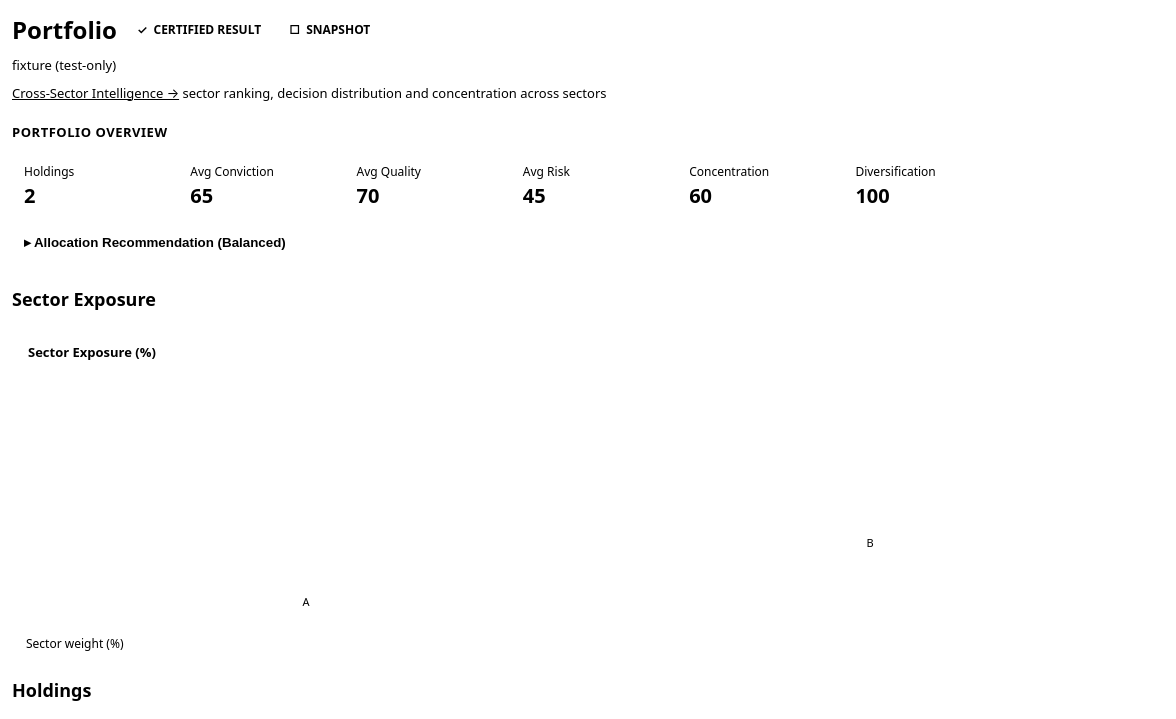
Test case: Portfolio Workspace › renders the certified allocation recommendation
Check: the element with test id "metric-group" is shown, box [12,123,936,208]
Click the button "▸ Allocation Recommendation (Balanced)" at {"x": 160, "y": 242}, box [12,222,1164,262]
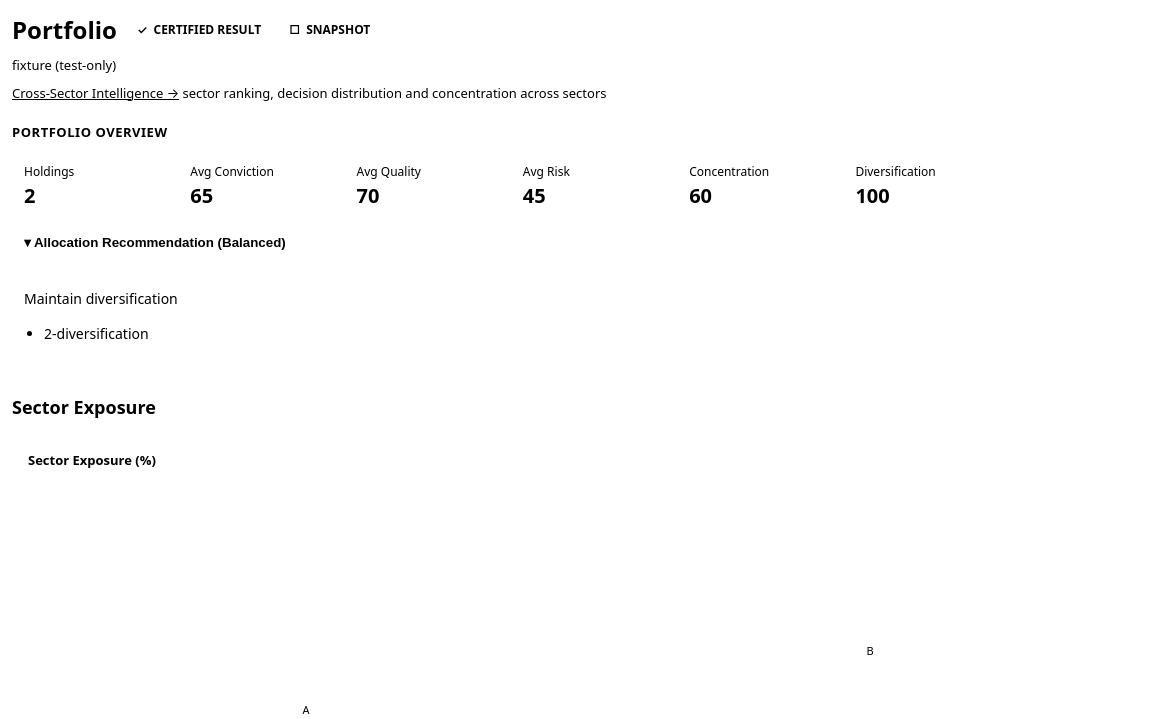
Check: the text with test id "allocation-recommendation" reads "Maintain diversification", box [24,288,178,308]
